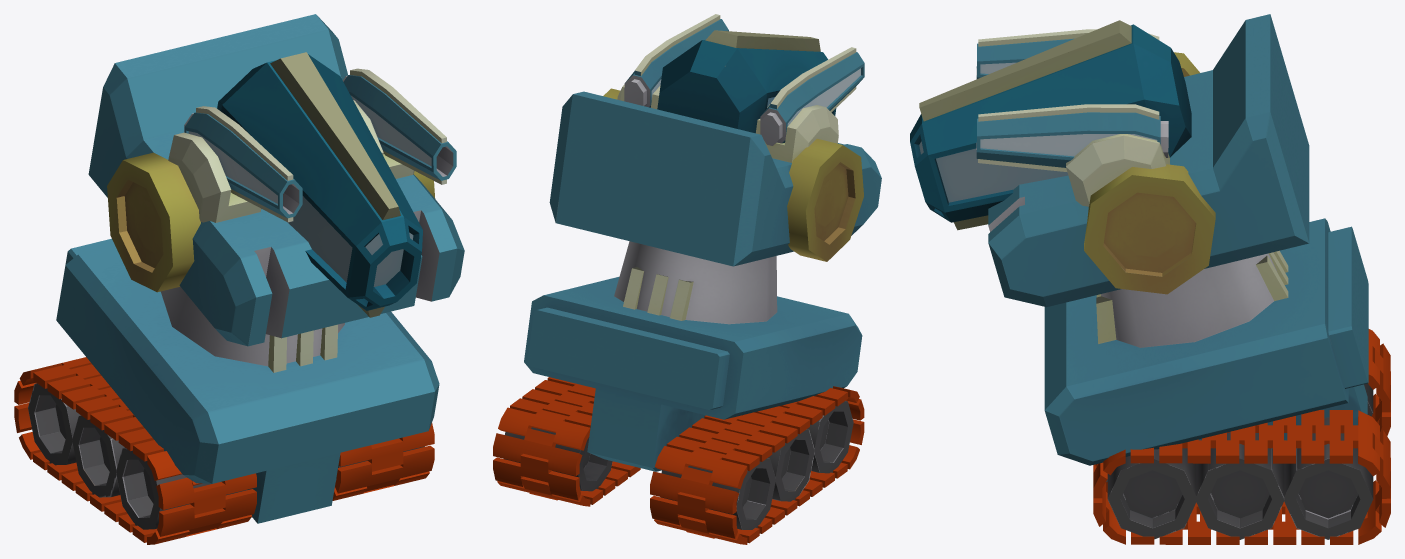
Rendered from player_move_1_upgrade3.obj.
3 views of the same model, side by side, from view 1: azimuth 30°, elevation 25°; view 2: azimuth 150°, elevation 25°; view 3: azimuth 270°, elevation 25° (orthographic). The views are drawn at different scales.
Parts seen in each view (by area): view 1: Object004, Box038, Object012, Object011, Box042; view 2: Object004, Box038, Box042, Object011, Object012; view 3: Object004, Object011, Box042, Object012, Box038.
Part boxes in pixels (x1,y1,x2,y2): Object004: (56,14,464,523); Box038: (14,357,256,544); Object012: (184,68,456,222); Object011: (28,383,424,529); Box042: (332,423,434,500); Object004: (524,30,881,471); Box038: (650,386,864,544); Box042: (493,377,640,506); Object011: (504,401,853,529); Object012: (624,14,864,145); Object004: (910,14,1368,481); Object011: (1107,383,1373,539); Box042: (1093,410,1390,544); Object012: (976,29,1168,171); Box038: (1368,329,1390,435).
Bounding box in the file's own units: 110 × 177 × 169.
4 materials, 2 textured.
